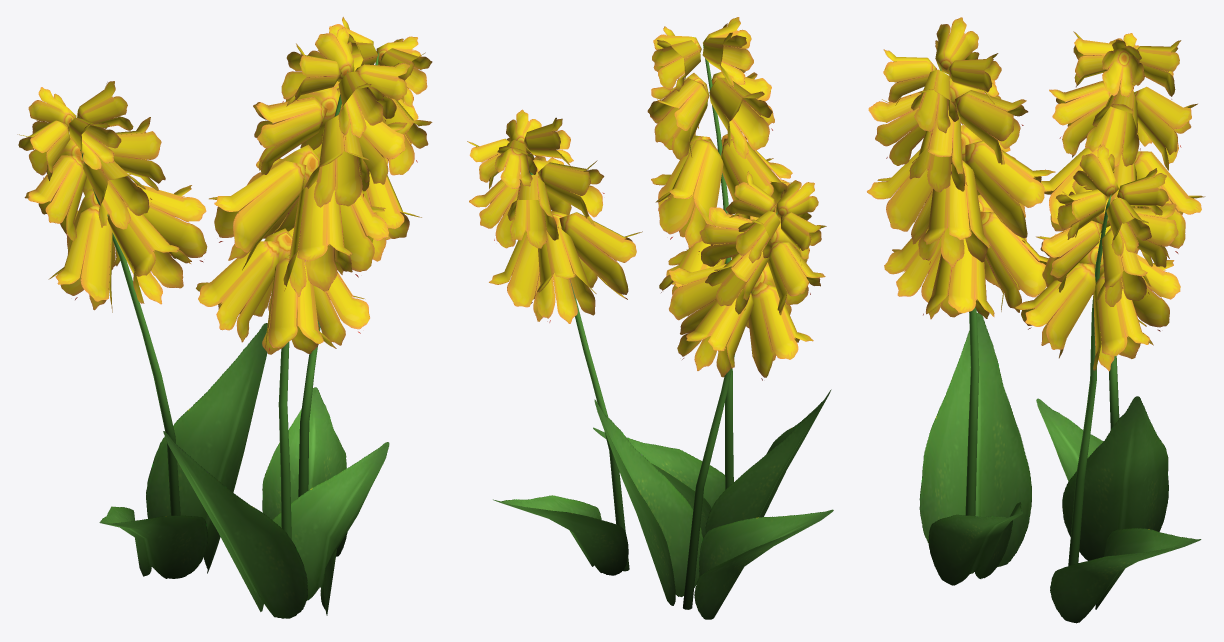
Rendered from Flower_4_Group.gltf.
3 renders of one model, left to right at view 1: azimuth 30°, elevation 25°; view 2: azimuth 150°, elevation 25°; view 3: azimuth 270°, elevation 25°, orthographic. The views are drawn at different scales.
Parts seen in each view (by area): view 1: Flower_4_Group; view 2: Flower_4_Group; view 3: Flower_4_Group.
Boxes of the visible parts, x1,y1,x2,y2 form: Flower_4_Group: (17,17,432,618); Flower_4_Group: (467,17,833,619); Flower_4_Group: (867,17,1205,623).
Bounding box in the file's own units: 1.78 × 2.49 × 1.37.
Materials: 2 (2 with a texture image).
